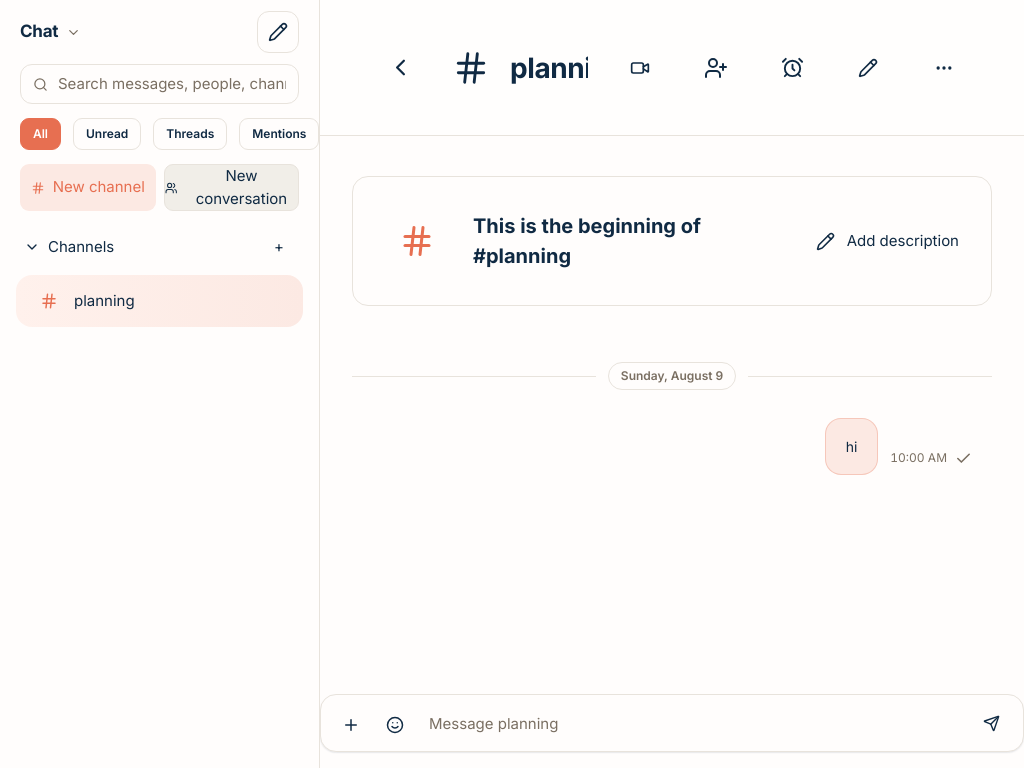
Test: typing @ offers the room's agents and people, agents first
This screenshot has width=1024, height=768.
expect the text "@alo" is not shown: met
Step 1. Type "@a" into the text box named "Write a message" → (694, 724), box [421,704,967,743]
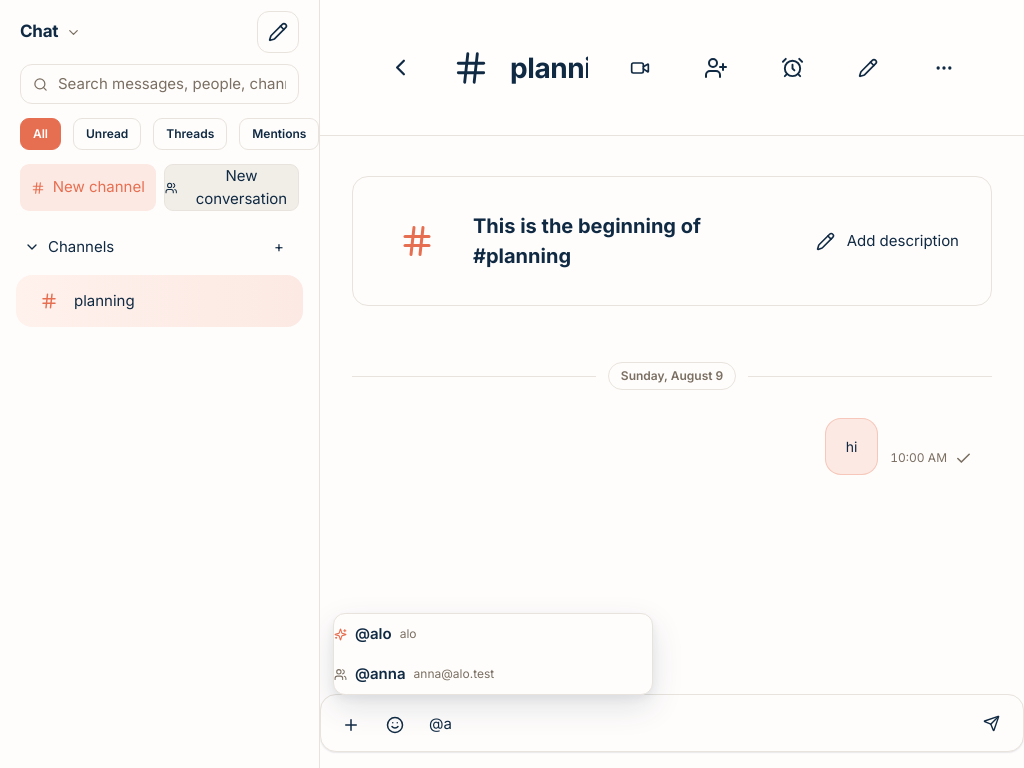
expect the text "@alo" is shown: met, box [355,623,392,645]
expect the option "@alo alo" is shown: met, box [334,614,652,654]
